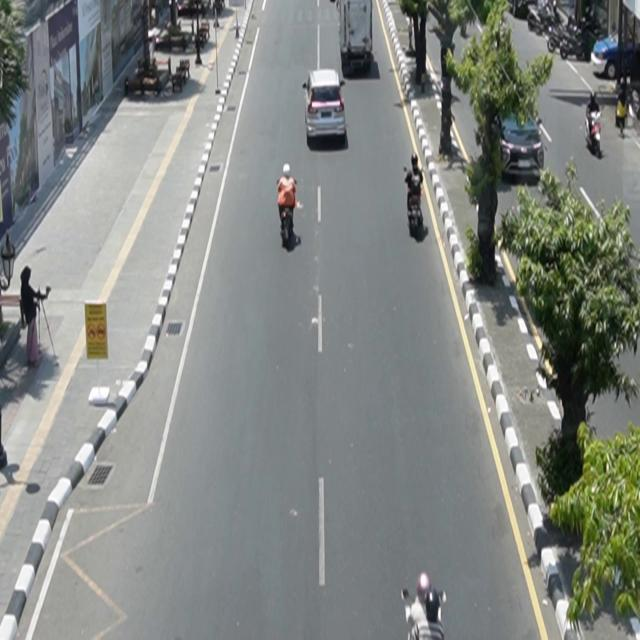car: (493, 109, 546, 179), (303, 69, 347, 142)
truck: (337, 1, 374, 77)
